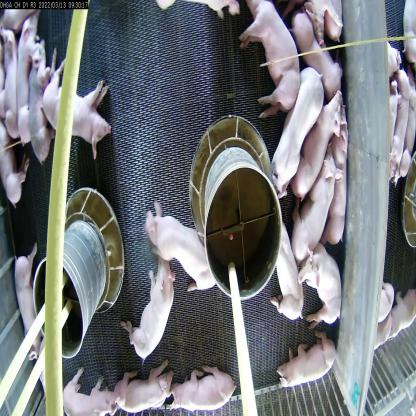Pig: (148, 178, 228, 306), (235, 1, 298, 121), (281, 92, 348, 203), (287, 147, 345, 274), (45, 63, 117, 164), (292, 244, 346, 349), (276, 71, 320, 197), (123, 271, 184, 359), (8, 5, 44, 139), (12, 232, 43, 380), (170, 360, 238, 416), (56, 361, 121, 416), (116, 361, 180, 416), (273, 232, 308, 320), (30, 38, 52, 172), (281, 332, 332, 388), (332, 117, 350, 246)
